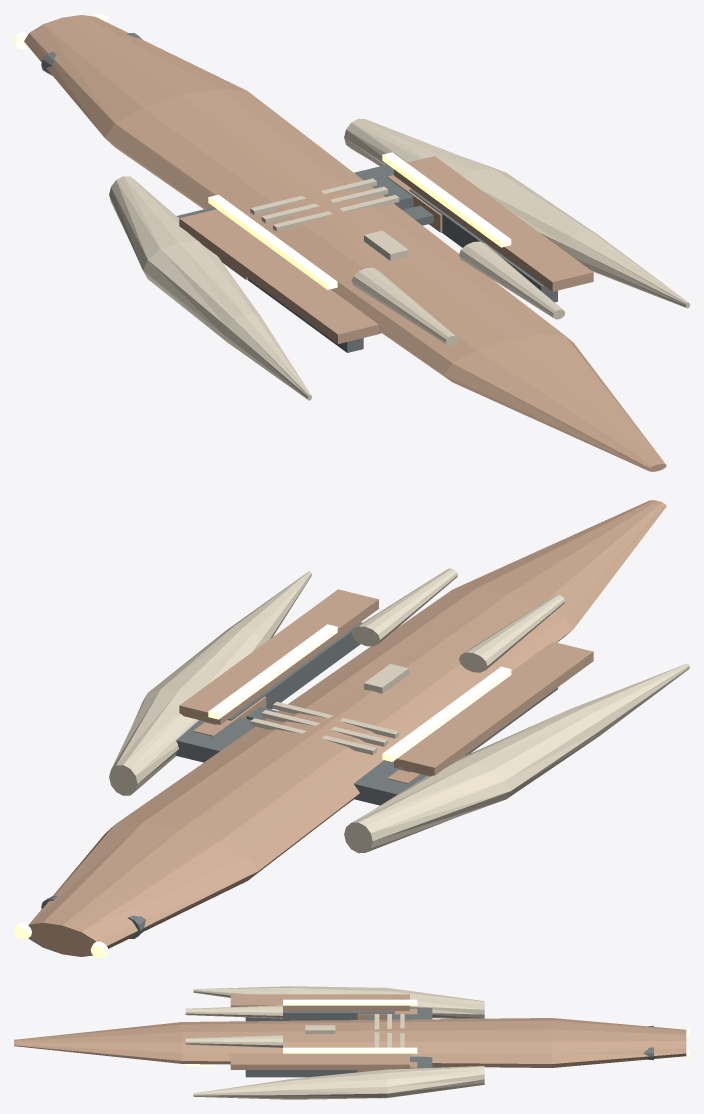
3 views of the same model, one above another, from view 1: azimuth 30°, elevation 25°; view 2: azimuth 150°, elevation 25°; view 3: azimuth 270°, elevation 25° (orthographic). The views are drawn at different scales.
Size of the model in its own units: 7.41 by 1.51 by 20.09.
